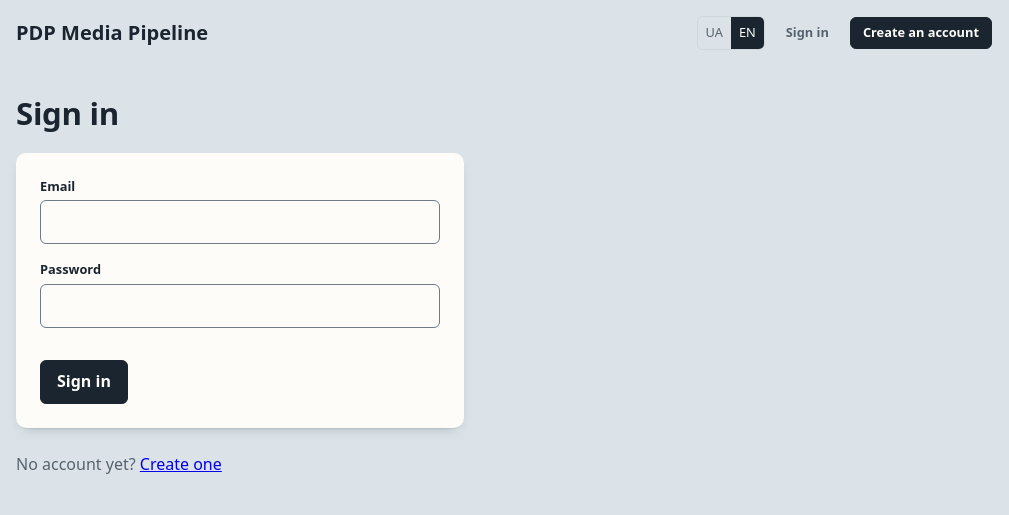
Test: signing in › counts down when there were too many attempts
Type "dev@example.com" into the field labelled "Email" at point(240, 222), box top-left (40, 200), bottom-right (440, 244)
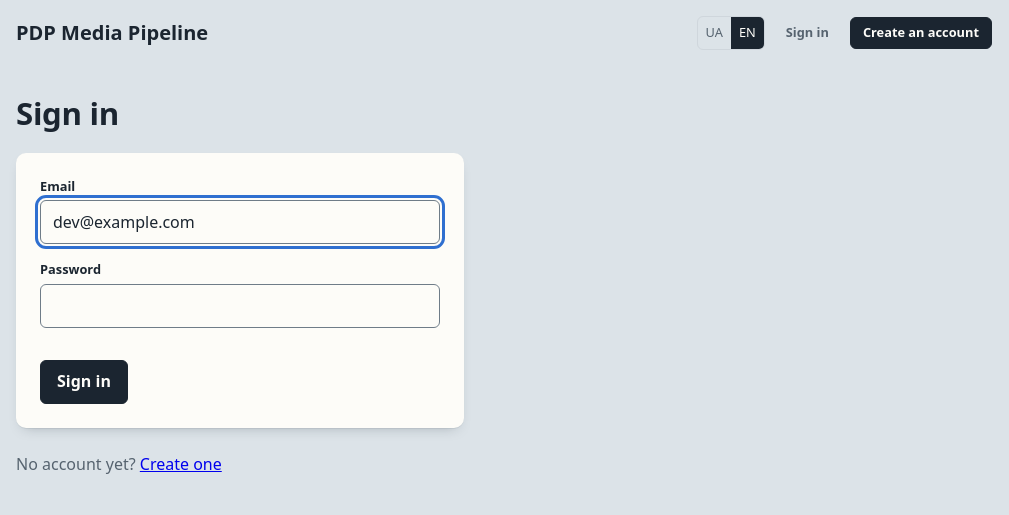
Type "correct horse battery" into the password field labelled "Password" at point(240, 306), box top-left (40, 284), bottom-right (440, 328)
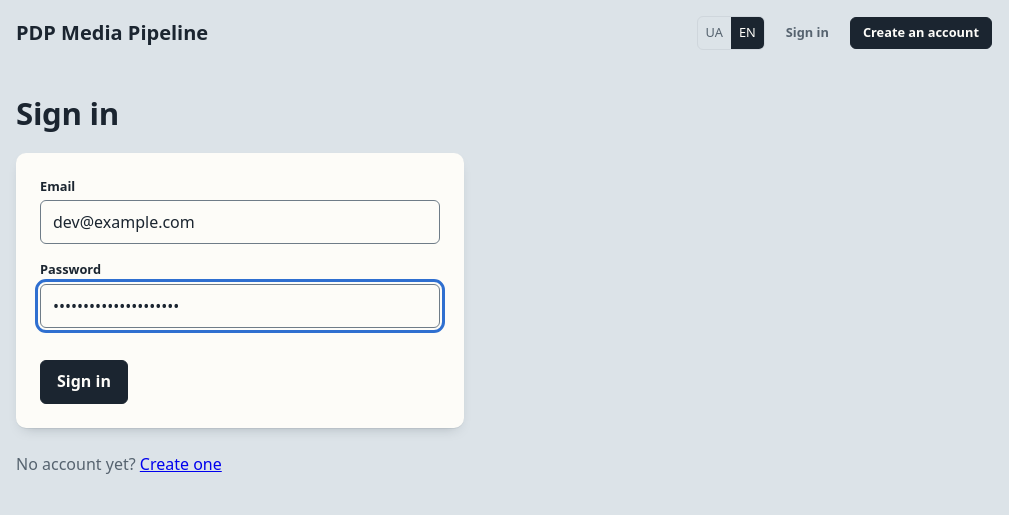
Click the button "Sign in" at point(84, 382), box top-left (40, 360), bottom-right (128, 404)
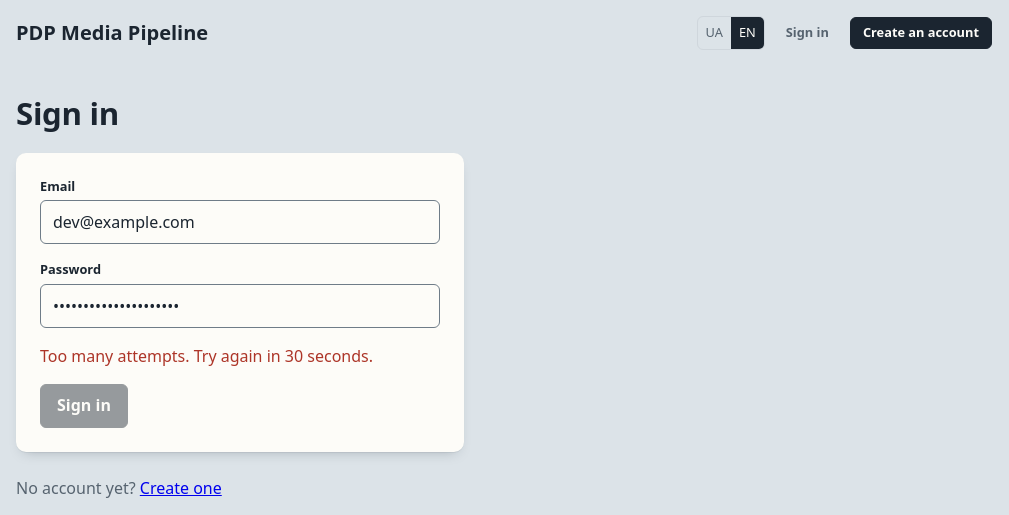
Check: the message reads "Too many attempts. Try again in 30 seconds.", box top-left (40, 345), bottom-right (373, 367)
Check: the button "Sign in" is disabled, box top-left (40, 384), bottom-right (128, 428)
